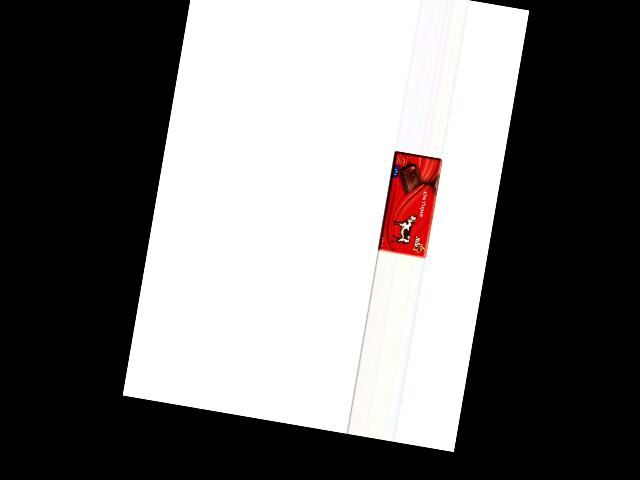chocolate: (377, 150, 443, 259)
